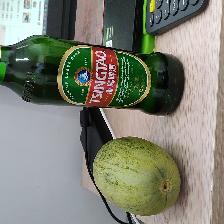gua: (89, 138, 188, 223)
